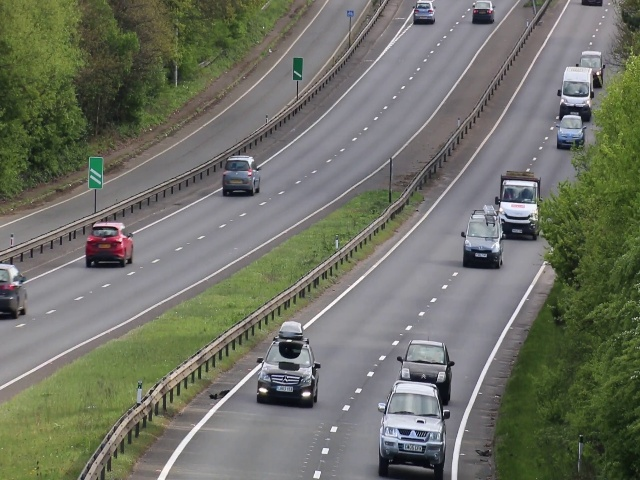car: (379, 376, 446, 472), (254, 335, 319, 406), (394, 341, 455, 396), (497, 176, 540, 238), (84, 218, 134, 268), (461, 212, 503, 268), (222, 153, 261, 195), (558, 69, 592, 115), (1, 264, 28, 316), (554, 116, 584, 148), (411, 1, 437, 26), (470, 1, 496, 23), (580, 47, 603, 71)
